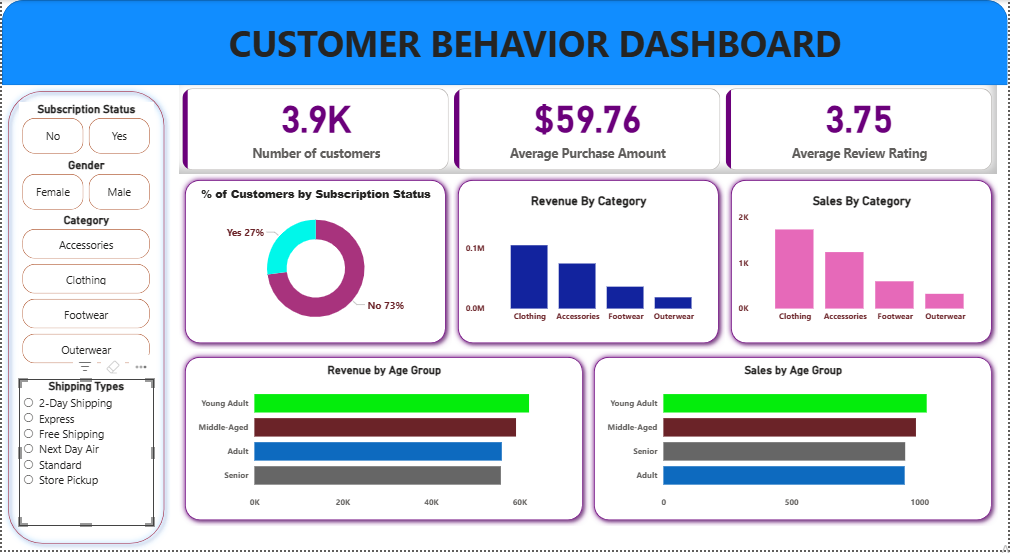

What the dashboard file says about the page in this screenshot:
{"tool":"powerbi","page":{"name":"Page 1","canvas":[1500,820],"ordinal":0},"visuals":[{"type":"cardVisual","fields":{"Data":["customer_behavior.Number of customers","customer_behavior.Average Purchase Amount","customer_behavior.Average Review Rating"]},"box":[264.4,127.2,1220,132.2],"z":0},{"type":"shape","box":[0,0,1499.4,127.2],"z":1000},{"type":"textbox","box":[103.8,21.8,1380.6,85.3],"z":2000},{"type":"shape","box":[264.4,259.4,406.7,261.1],"z":3000},{"type":"donutChart","title":"% of Customers by Subscription Status","fields":{"Category":["customer_behavior.subscription_status"],"Y":["customer_behavior.Number of customers"]},"box":[286.2,277.8,363.1,222.6],"z":4000},{"type":"shape","box":[671.1,259.4,406.7,261.1],"z":5000},{"type":"shape","box":[1077.7,259.4,406.7,261.1],"z":6000},{"type":"clusteredColumnChart","title":"Revenue By Category","fields":{"Y":["Sum(customer_behavior.purchase_amount)"],"Category":["customer_behavior.category"]},"box":[686.1,289.5,378.2,200.8],"z":7000},{"type":"clusteredColumnChart","title":"Sales By Category","fields":{"Category":["customer_behavior.category"],"Y":["customer_behavior.Number of customers"]},"box":[1092.8,289.5,378.2,200.8],"z":8000},{"type":"shape","box":[0,127.2,251,692.8],"z":9000},{"type":"advancedSlicerVisual","title":"Subscription Status","fields":{"Values":["customer_behavior.subscription_status"]},"box":[25.1,152.3,200.8,82],"z":10000},{"type":"advancedSlicerVisual","title":"Gender","fields":{"Values":["customer_behavior.gender"]},"box":[25.1,236,200.8,82],"z":11000},{"type":"advancedSlicerVisual","title":"Category","fields":{"Values":["customer_behavior.category"]},"box":[25.1,318,200.8,230.9],"z":12000},{"type":"listSlicer","fields":{"Values":["customer_behavior.shipping_type"]},"box":[25.1,565.6,200.8,219.2],"z":13000},{"type":"shape","box":[264.4,523.8,610.8,261.1],"z":14000},{"type":"clusteredBarChart","title":"Revenue by Age Group","fields":{"Y":["Sum(customer_behavior.purchase_amount)"],"Category":["customer_behavior.age_group"]},"box":[286.2,540.5,567.3,225.9],"z":15000},{"type":"shape","box":[873.6,523.8,610.8,261.1],"z":16000},{"type":"clusteredBarChart","title":"Sales by Age Group","fields":{"Category":["customer_behavior.age_group"],"Y":["customer_behavior.Number of customers"]},"box":[895.3,540.5,567.3,225.9],"z":17000}]}

Visuals, with their boxes in screenshot pixels (x1, y1, x2, y2), scaled from the page's 1500x820 canvas onto the 1010x553 screenshot:
cardVisual - customer_behavior.Number of customers x customer_behavior.Average Purchase Amount: (x1=178, y1=86, x2=999, y2=175)
shape: (x1=0, y1=0, x2=1009, y2=86)
textbox: (x1=70, y1=15, x2=999, y2=72)
shape: (x1=178, y1=175, x2=452, y2=351)
"% of Customers by Subscription Status" donutChart: (x1=193, y1=187, x2=437, y2=337)
shape: (x1=452, y1=175, x2=726, y2=351)
shape: (x1=726, y1=175, x2=999, y2=351)
"Revenue By Category" clusteredColumnChart: (x1=462, y1=195, x2=717, y2=331)
"Sales By Category" clusteredColumnChart: (x1=736, y1=195, x2=990, y2=331)
shape: (x1=0, y1=86, x2=169, y2=552)
"Subscription Status" advancedSlicerVisual: (x1=17, y1=103, x2=152, y2=158)
"Gender" advancedSlicerVisual: (x1=17, y1=159, x2=152, y2=214)
"Category" advancedSlicerVisual: (x1=17, y1=214, x2=152, y2=370)
listSlicer - customer_behavior.shipping_type: (x1=17, y1=381, x2=152, y2=529)
shape: (x1=178, y1=353, x2=589, y2=529)
"Revenue by Age Group" clusteredBarChart: (x1=193, y1=365, x2=575, y2=517)
shape: (x1=588, y1=353, x2=999, y2=529)
"Sales by Age Group" clusteredBarChart: (x1=603, y1=365, x2=985, y2=517)
